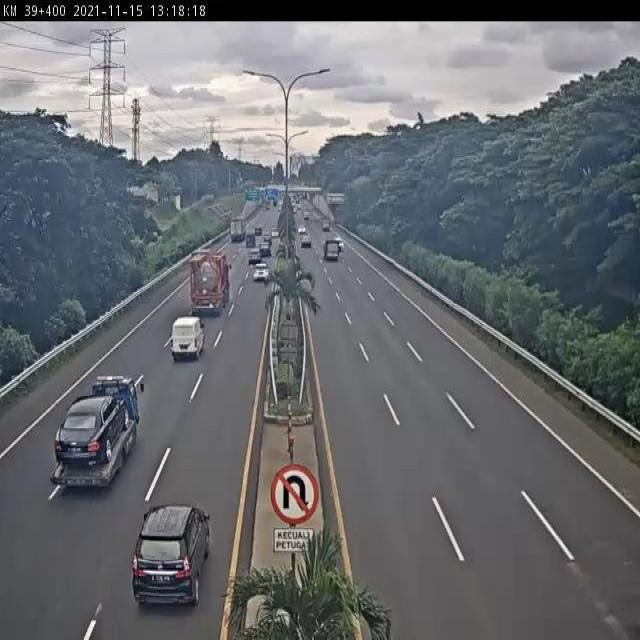car: (131, 499, 215, 607), (252, 261, 270, 283)
truck: (52, 372, 140, 492), (189, 252, 230, 319), (171, 316, 207, 359)
